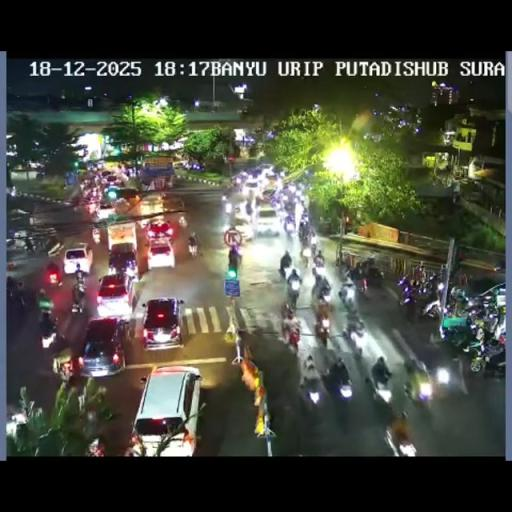Car: (128, 365, 202, 455), (78, 316, 127, 378), (140, 297, 184, 350), (96, 274, 138, 318), (137, 191, 184, 224), (108, 243, 138, 275), (146, 236, 175, 269), (253, 203, 281, 237), (63, 244, 93, 274), (106, 187, 142, 208), (145, 219, 174, 241), (232, 216, 254, 242), (242, 172, 265, 190), (96, 201, 114, 221), (254, 163, 274, 178), (258, 188, 276, 204), (172, 159, 188, 169), (105, 174, 118, 186)
Motorcycle: (294, 254, 376, 406), (466, 331, 504, 374), (384, 414, 416, 456), (439, 314, 475, 350), (420, 282, 454, 320), (402, 360, 432, 403), (436, 356, 466, 398), (366, 377, 396, 416), (36, 288, 57, 343), (326, 358, 351, 396), (342, 316, 366, 354), (462, 299, 493, 327), (313, 302, 333, 344), (299, 369, 323, 404), (281, 317, 301, 351), (396, 277, 418, 307), (6, 282, 26, 314), (449, 283, 468, 315), (338, 282, 356, 310), (122, 434, 144, 456), (71, 282, 86, 313), (350, 270, 369, 294), (56, 358, 75, 382), (299, 220, 316, 246), (492, 306, 506, 337), (235, 198, 253, 220), (86, 437, 106, 456), (286, 282, 300, 308), (116, 316, 130, 342), (46, 266, 62, 288), (412, 262, 426, 287), (316, 281, 332, 302), (302, 354, 317, 376), (46, 239, 64, 257), (226, 202, 238, 228), (282, 214, 296, 236), (280, 301, 294, 323), (317, 216, 334, 234), (311, 246, 325, 266), (230, 176, 246, 193), (22, 238, 37, 256), (338, 257, 351, 277), (90, 186, 102, 204), (187, 239, 198, 258), (301, 245, 312, 262), (278, 263, 287, 280), (234, 248, 242, 267), (178, 214, 187, 228), (92, 228, 101, 242), (6, 236, 16, 248), (35, 172, 45, 181)
